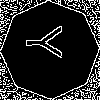Y: (25, 25, 72, 60)
